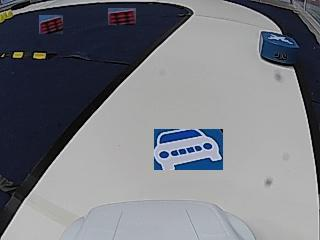prop: (259, 31, 298, 67)
